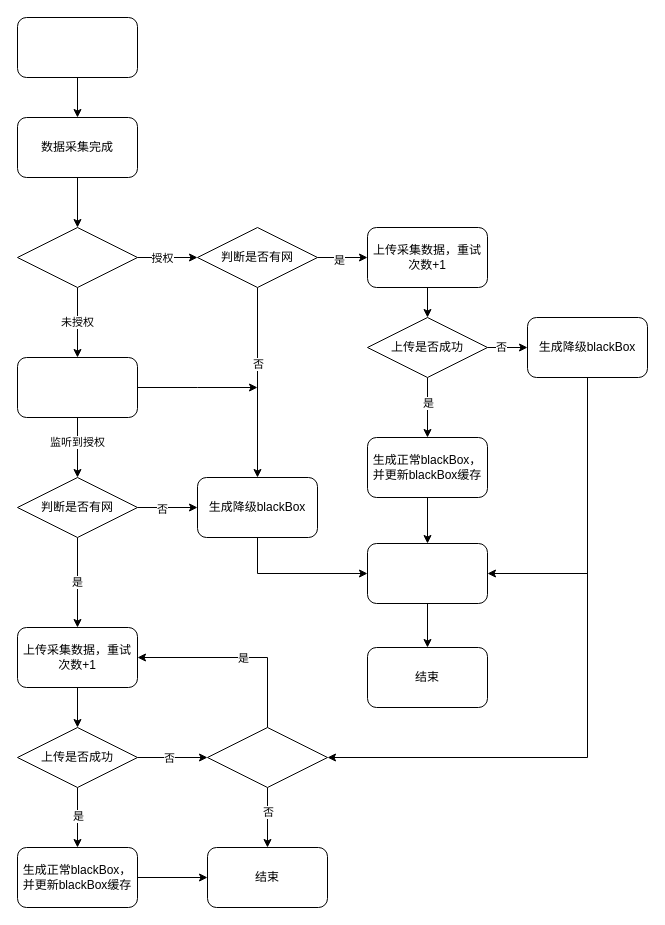
Some shapes in this 665 by 925 pixel diagram are drawn without their labels. The shapes that lost their labels are listed below. From the top down, each one's centre as x and y in pixels, then its label:
At point 77,47: "开始".
At point 77,257: "判断网络授权".
At point 77,387: "监听网络授权".
At point 427,573: "callBack".
At point 267,757: "重试次数是否小于3".
